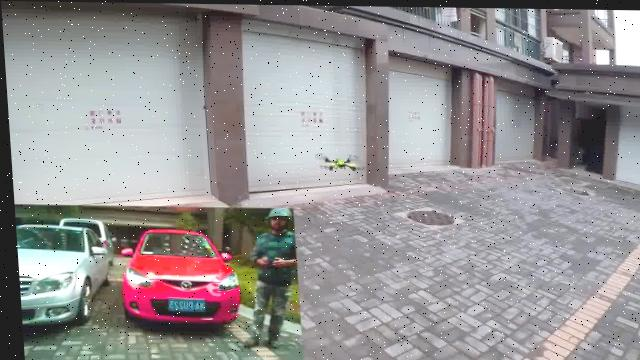drone: (278, 131, 387, 191)
